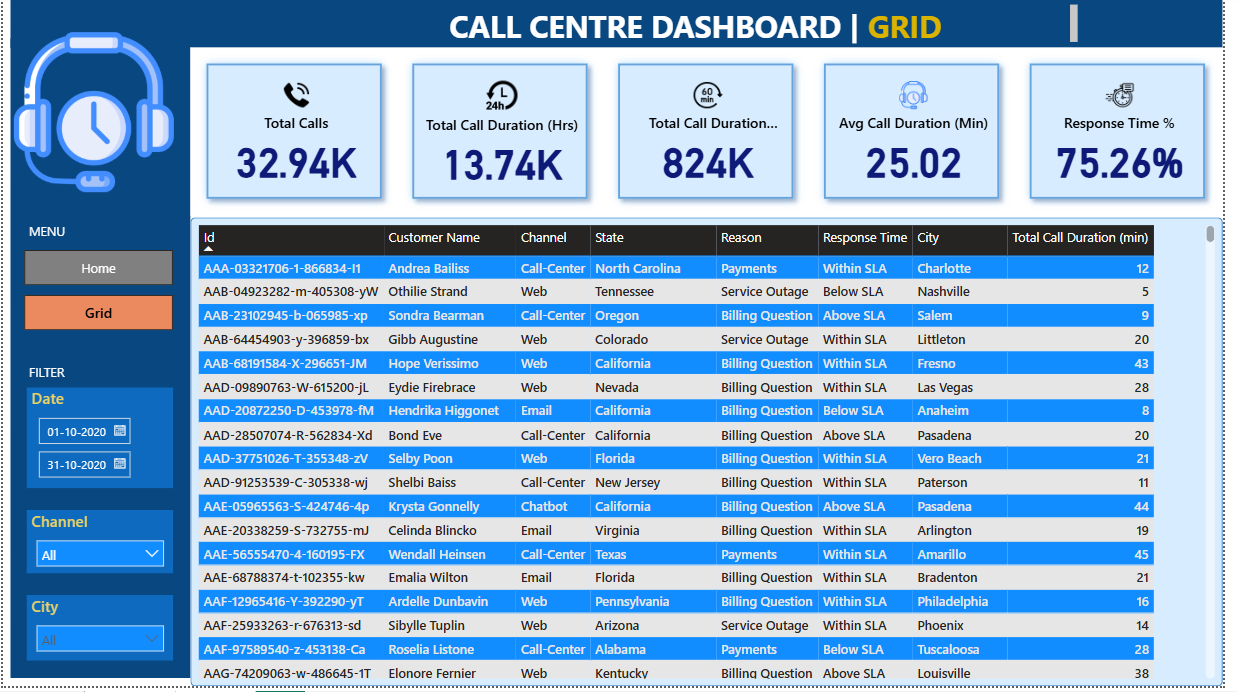

The dashboard page shown, as its layout file describes it:
{"tool":"powerbi","page":{"name":"Grid","canvas":[1280,720],"ordinal":1},"visuals":[{"type":"shape","box":[7.8,0,1272.2,50],"z":0},{"type":"shape","box":[8.4,40.9,188.8,670.9],"z":1000},{"type":"cardVisual","fields":{"Data":["Call Center_Call Center.Total Calls","Call Center_Call Center.Total Call Duration (Hrs)","Call Center_Call Center.Total Call Duration (min)","Call Center_Call Center.Avg Call Duration (Min)","Call Center_Call Center.Response Time %"]},"box":[197.2,50.5,1083.4,176.8],"z":2000},{"type":"textbox","box":[462.9,0,669.7,50.5],"z":3000},{"type":"slicer","title":"Date","fields":{"Values":["Date Table.Date"]},"box":[25.3,406.4,153.9,105.8],"z":10000},{"type":"slicer","title":"Channel","fields":{"Values":["Call Center_Call Center.Channel"]},"box":[25.3,535.1,153.9,66.1],"z":11000},{"type":"slicer","title":"City","fields":{"Values":["Call Center_Call Center.City"]},"box":[25.3,624.1,153.9,68.5],"z":12000},{"type":"image","box":[7.2,25.3,178,186.4],"z":13000},{"type":"tableEx","fields":{"Values":["Call Center_Call Center.Id","Call Center_Call Center.Customer Name","Call Center_Call Center.Channel","Call Center_Call Center.State","Call Center_Call Center.Reason","Call Center_Call Center.Response Time","Call Center_Call Center.City","Call Center_Call Center.Total Call Duration (min)"]},"box":[197,228,1083,492],"z":13001},{"type":"pageNavigator","box":[22.8,262.1,156.3,85.4],"z":13002},{"type":"textbox","box":[22.8,228.5,156.3,33.7],"z":13003},{"type":"textbox","box":[22.8,376.4,78.2,30.1],"z":13004}]}

Visuals, with their boxes in screenshot pixels (x1, y1, x2, y2), scaled from the page's 1280x720 canvas onto the 1237x692 screenshot:
shape: (8, 0, 1236, 48)
shape: (8, 39, 191, 684)
cardVisual - Call Center_Call Center.Total Calls x Call Center_Call Center.Total Call Duration (Hrs): (191, 49, 1236, 218)
textbox: (447, 0, 1095, 49)
"Date" slicer: (24, 391, 173, 492)
"Channel" slicer: (24, 514, 173, 578)
"City" slicer: (24, 600, 173, 666)
image: (7, 24, 179, 203)
tableEx - Call Center_Call Center.Id x Call Center_Call Center.Customer Name: (190, 219, 1236, 691)
pageNavigator: (22, 252, 173, 334)
textbox: (22, 220, 173, 252)
textbox: (22, 362, 98, 391)
